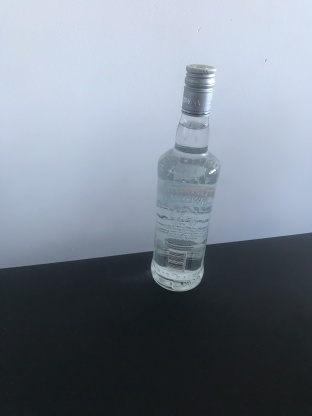nakretka: (180, 60, 217, 120)
